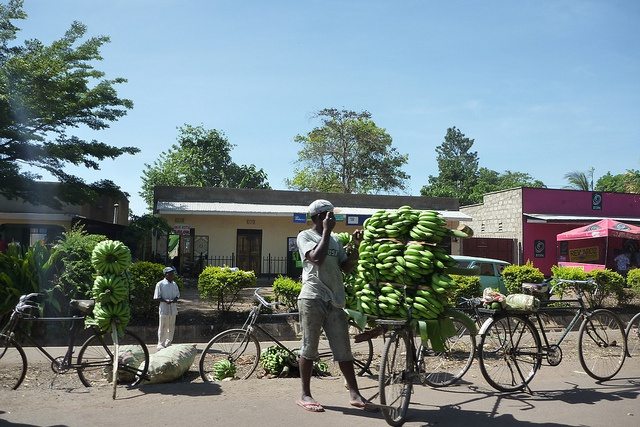non-vehicle: (478, 276, 626, 396), (197, 286, 374, 383), (0, 294, 150, 391), (363, 318, 475, 427), (623, 311, 639, 356)
